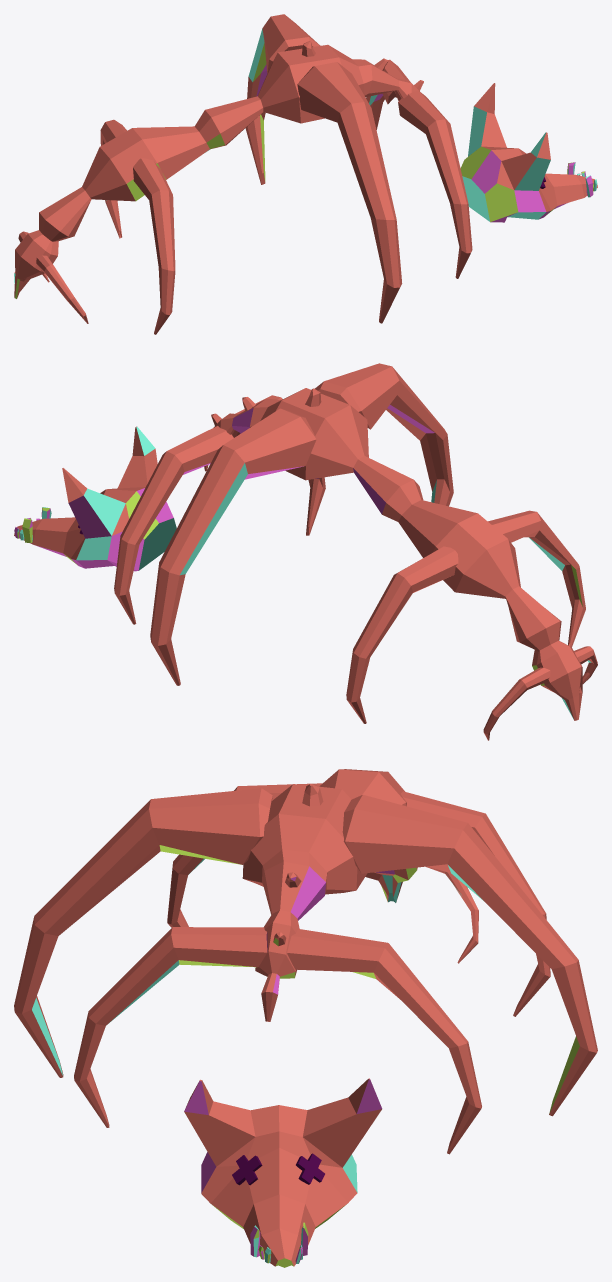
The model's file is ENV_bones_color.fbx.
The picture shows the model from 3 angles, top to bottom: view 1: azimuth 30°, elevation 25°; view 2: azimuth 150°, elevation 25°; view 3: azimuth 270°, elevation 25°; orthographic projection. The views are drawn at different scales.
Visible parts, largest first — view 1: Cube.014; view 2: Cube.014; view 3: Cube.014.
Part boxes in pixels (x1,y1,x2,y2): Cube.014: (14,14,597,334); Cube.014: (14,363,597,740); Cube.014: (14,769,597,1267).
Bounding box in the file's own units: 1716 × 2622 × 1054.
